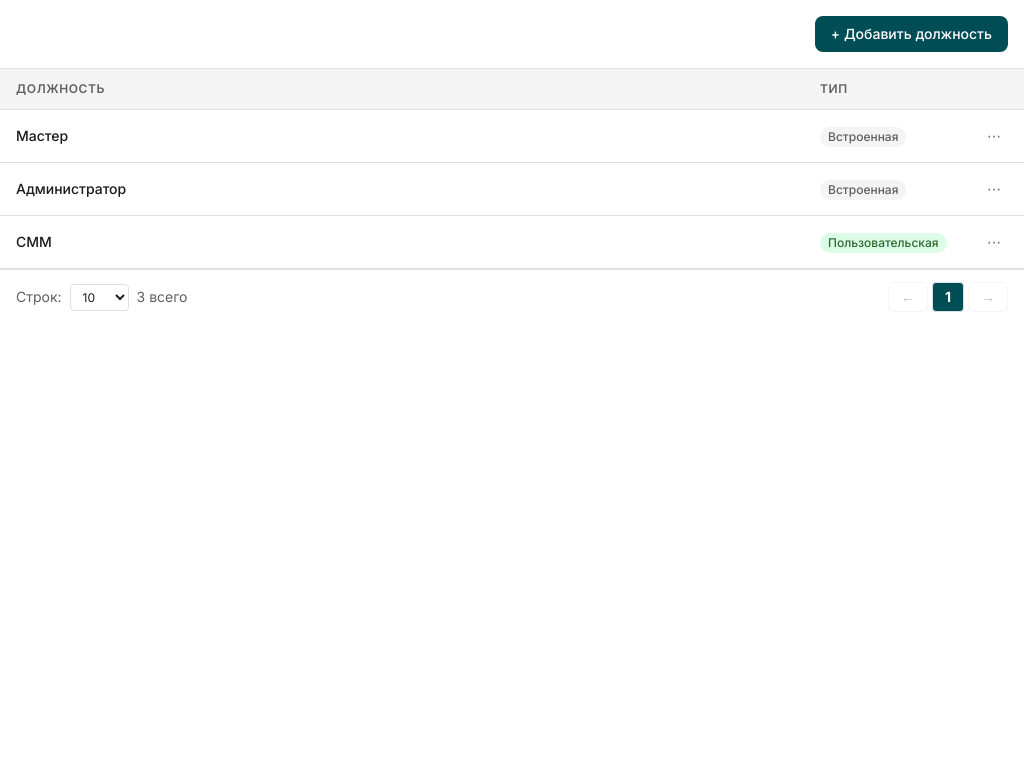
Test case: PositionsTable — create › opens the create modal from «+ Добавить должность» and closes it on Отмена
The width and height of the screenshot is (1024, 768).
Expected: the text "Мастер" is shown, [16,127,68,144]
Click the button "+ Добавить должность" at (911, 34), box [815,16,1008,52]
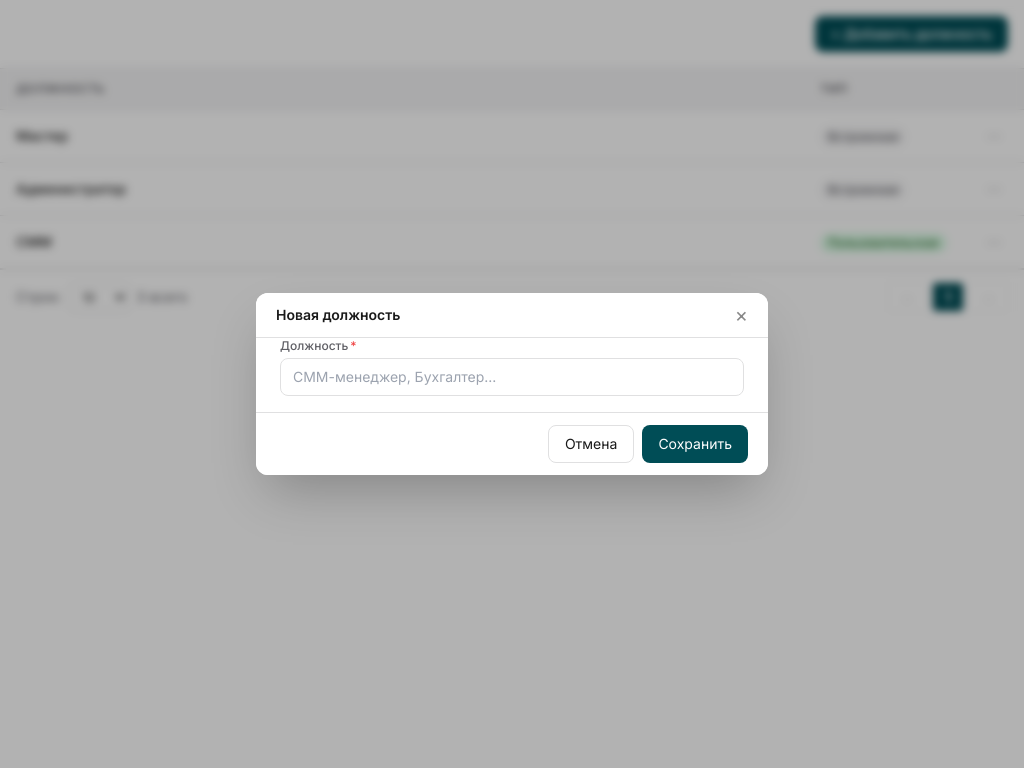
Expected: the dialog is shown
Expected: the heading "Новая должность" is shown, [276,305,400,325]
Expected: the field labelled "Должность" is empty, [280,358,744,396]
Click the button "Отмена" at (591, 444), box [548,425,634,463]
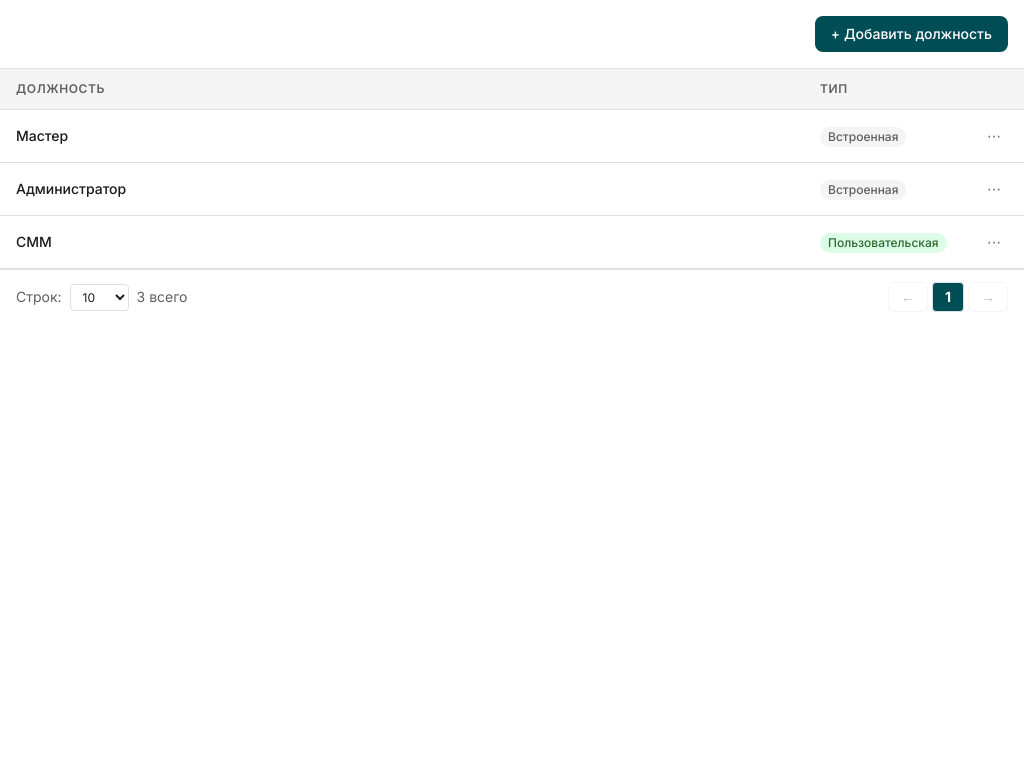
Expected: the dialog is gone
